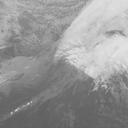cyclone: (50, 28, 103, 87)
